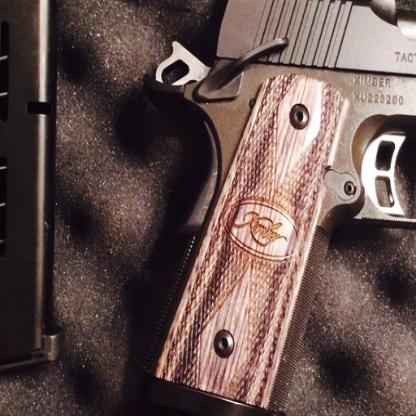gun: (154, 0, 416, 415)
